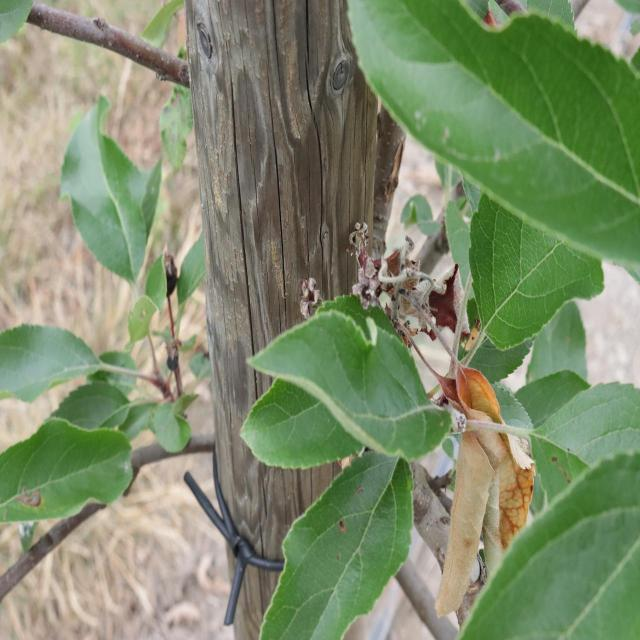-FireBlight-: (361, 232, 550, 640)
